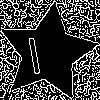I: (22, 27, 44, 75)
